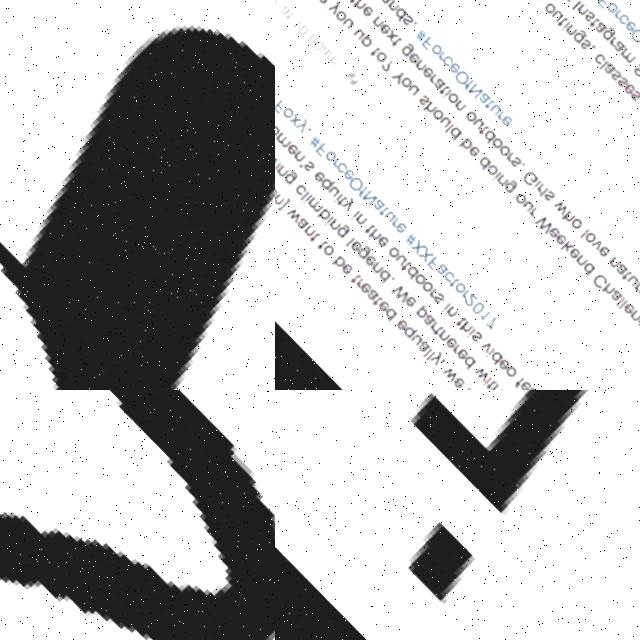3: (478, 314, 496, 331)
A: (429, 262, 445, 279), (590, 21, 606, 37), (290, 217, 306, 232), (359, 288, 375, 303), (410, 340, 426, 355), (415, 313, 431, 328), (603, 289, 619, 304), (609, 262, 625, 277), (608, 40, 624, 55), (429, 77, 444, 92), (473, 91, 488, 106), (599, 62, 614, 76), (367, 199, 382, 213), (315, 45, 329, 58), (277, 5, 289, 17), (375, 0, 391, 6), (635, 99, 640, 114), (518, 387, 532, 390)
B: (452, 138, 470, 155), (311, 208, 328, 225), (325, 256, 341, 271)
C: (585, 273, 605, 293), (612, 13, 629, 28), (589, 53, 605, 68), (289, 183, 304, 198), (436, 270, 451, 285), (330, 161, 345, 175), (437, 55, 452, 69)
D: (375, 307, 394, 325), (369, 269, 387, 286), (481, 351, 499, 368), (574, 262, 592, 279), (476, 129, 494, 146), (454, 355, 471, 372), (442, 126, 459, 143), (472, 156, 489, 173), (399, 266, 415, 282), (390, 7, 406, 23)
E: (357, 4, 374, 20), (334, 261, 350, 277), (417, 65, 433, 81), (388, 318, 405, 333), (444, 375, 461, 390), (280, 143, 297, 158), (490, 358, 507, 373), (336, 168, 353, 183), (353, 282, 369, 297), (370, 299, 386, 314), (343, 240, 359, 255), (438, 336, 454, 351), (449, 348, 465, 363), (307, 170, 323, 185), (371, 235, 387, 250), (562, 246, 578, 261), (375, 22, 391, 37), (403, 52, 419, 67), (592, 245, 608, 260), (496, 114, 511, 130), (618, 83, 634, 98), (620, 21, 636, 36), (358, 254, 373, 269), (389, 221, 404, 236), (463, 145, 478, 160), (542, 226, 557, 241), (549, 233, 564, 248), (444, 61, 459, 76), (398, 296, 413, 310), (616, 303, 631, 317), (512, 379, 527, 390), (631, 285, 640, 300), (314, 0, 329, 7), (637, 324, 640, 338)
F: (419, 254, 438, 273), (417, 36, 434, 53), (309, 143, 326, 158), (505, 376, 520, 390), (458, 79, 473, 93), (351, 186, 366, 199), (275, 98, 286, 115), (593, 0, 610, 9), (634, 37, 640, 50)
G: (515, 169, 536, 189), (329, 222, 348, 241), (349, 243, 368, 261), (395, 41, 414, 59), (597, 26, 616, 44), (498, 178, 516, 196), (568, 29, 586, 46), (278, 170, 295, 187), (629, 314, 640, 331)
H: (419, 102, 436, 118), (362, 228, 378, 244), (595, 283, 612, 298), (453, 322, 469, 337), (556, 211, 572, 226), (348, 0, 365, 14), (481, 384, 498, 390)
I: (343, 209, 358, 222), (555, 21, 570, 34), (433, 302, 447, 315), (458, 328, 472, 341), (566, 0, 580, 12), (486, 172, 499, 184), (297, 194, 309, 206), (318, 216, 330, 228), (475, 378, 487, 390), (478, 348, 490, 360), (327, 194, 339, 205), (438, 89, 450, 100), (526, 181, 538, 192), (275, 162, 278, 174)
J: (275, 390, 640, 617)
K: (554, 242, 569, 257)
L: (573, 228, 586, 241), (338, 237, 351, 249), (594, 61, 607, 73), (609, 297, 621, 309), (418, 351, 431, 362), (416, 349, 428, 360), (294, 190, 306, 201), (440, 124, 451, 134), (612, 300, 623, 310), (534, 189, 545, 199)
M: (301, 196, 320, 214), (616, 48, 634, 66), (322, 52, 338, 68), (275, 131, 289, 149)
N: (463, 83, 481, 101), (357, 191, 374, 208), (348, 212, 364, 227), (439, 304, 455, 319), (560, 24, 576, 39), (572, 4, 588, 19), (297, 224, 312, 239), (323, 218, 338, 233), (569, 254, 584, 269), (623, 309, 638, 324), (410, 59, 425, 74), (602, 256, 617, 271), (431, 330, 446, 344), (449, 99, 464, 113), (491, 175, 506, 189), (368, 15, 382, 29), (382, 0, 397, 13), (366, 262, 380, 275), (289, 150, 302, 163), (275, 164, 285, 178), (275, 193, 281, 206)
O: (342, 175, 362, 195), (449, 70, 468, 88), (624, 28, 640, 46), (407, 272, 424, 288), (497, 365, 513, 381), (493, 145, 510, 160), (578, 232, 594, 247), (539, 2, 555, 17), (414, 280, 430, 295), (316, 243, 331, 258), (382, 246, 397, 261), (319, 149, 334, 164), (447, 281, 462, 296), (460, 110, 475, 125), (486, 137, 501, 152), (564, 218, 579, 233), (602, 1, 617, 16), (427, 109, 442, 123), (481, 164, 496, 178), (372, 51, 386, 65), (396, 76, 410, 90), (443, 92, 457, 106), (426, 43, 440, 57), (278, 106, 292, 120), (332, 10, 345, 24), (510, 193, 523, 206)
P: (356, 33, 373, 50), (409, 305, 426, 321)
Q: (314, 175, 333, 193), (396, 323, 414, 341)
R: (422, 287, 435, 300), (433, 51, 446, 63), (604, 37, 617, 49), (627, 281, 640, 293), (424, 321, 436, 333), (445, 344, 457, 356), (385, 217, 397, 229), (455, 290, 467, 302), (424, 73, 436, 85), (501, 152, 513, 164), (492, 110, 504, 122), (350, 278, 361, 289), (532, 183, 543, 194), (610, 9, 621, 20), (326, 158, 337, 168), (524, 208, 535, 218), (562, 0, 574, 4)
S: (0, 390, 275, 640), (574, 38, 591, 53), (611, 76, 628, 91), (627, 62, 640, 81), (297, 160, 313, 175), (624, 89, 640, 104), (579, 10, 595, 25), (413, 94, 428, 109), (605, 70, 620, 84), (427, 292, 441, 306), (538, 190, 552, 204), (464, 331, 478, 344), (505, 157, 519, 170), (399, 16, 412, 29)
T: (0, 0, 275, 390), (302, 232, 318, 247), (330, 195, 345, 209), (343, 273, 357, 287), (358, 222, 372, 236), (448, 316, 462, 330), (472, 125, 486, 139), (585, 17, 599, 31), (309, 240, 324, 253), (372, 205, 387, 218), (386, 37, 401, 50), (478, 98, 493, 111), (552, 17, 567, 30), (426, 326, 440, 339), (394, 261, 408, 274), (366, 46, 380, 59), (434, 84, 448, 97), (614, 270, 628, 283), (366, 295, 379, 308), (443, 278, 455, 290), (281, 10, 293, 22), (479, 380, 492, 390), (344, 0, 359, 6), (636, 70, 640, 83)
U: (338, 16, 354, 31), (404, 334, 419, 349), (403, 83, 418, 98), (467, 118, 482, 132), (547, 10, 562, 24), (349, 28, 363, 42), (435, 116, 449, 130), (485, 104, 499, 118), (378, 211, 393, 224), (323, 186, 337, 199), (389, 254, 403, 267), (516, 200, 530, 213), (622, 276, 635, 289)
V: (584, 239, 601, 254), (473, 340, 489, 355)
W: (528, 214, 551, 236), (385, 284, 407, 305), (280, 207, 299, 225), (435, 366, 454, 384), (466, 366, 485, 384), (547, 200, 565, 217)
X: (412, 246, 432, 265), (405, 239, 423, 257), (284, 113, 299, 128), (382, 30, 396, 44)
Y: (290, 118, 309, 136), (387, 69, 404, 86), (323, 0, 341, 16), (337, 197, 353, 213), (424, 352, 439, 367)
